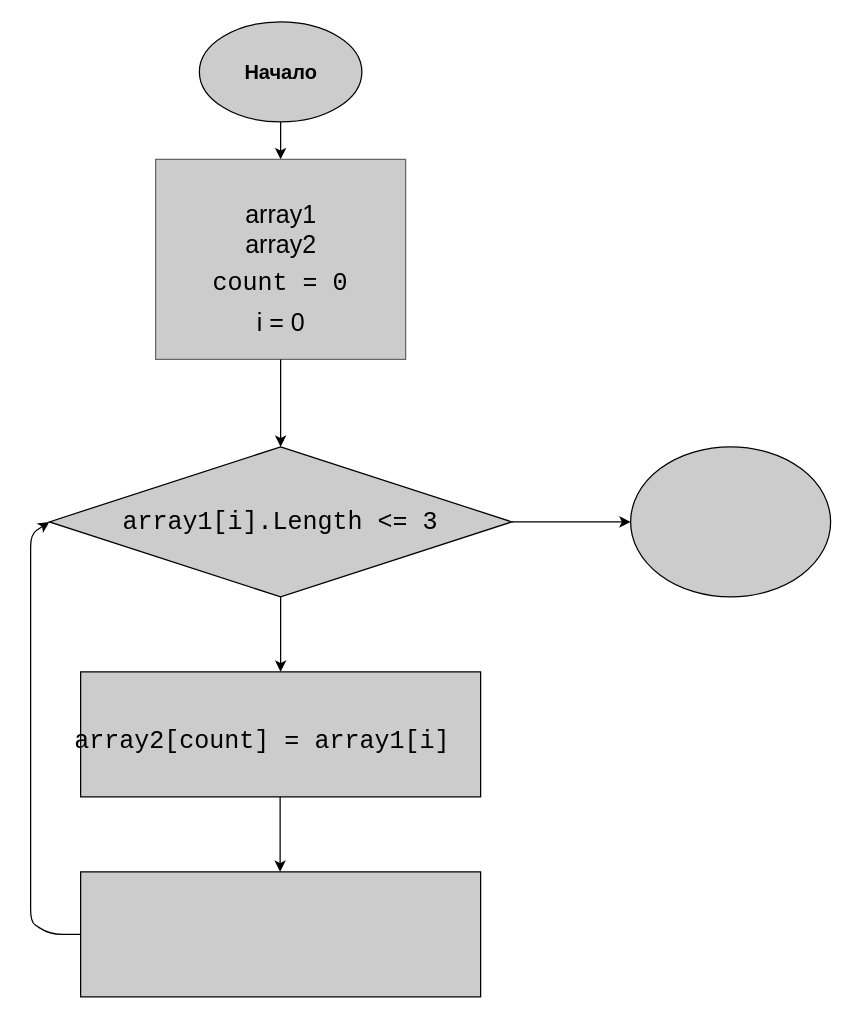
Image size: 853x1019. Some labels were removed from this diagram. Each missing label, with the centre of its shape:
count++: point 280,934
Конец: point 730,521
